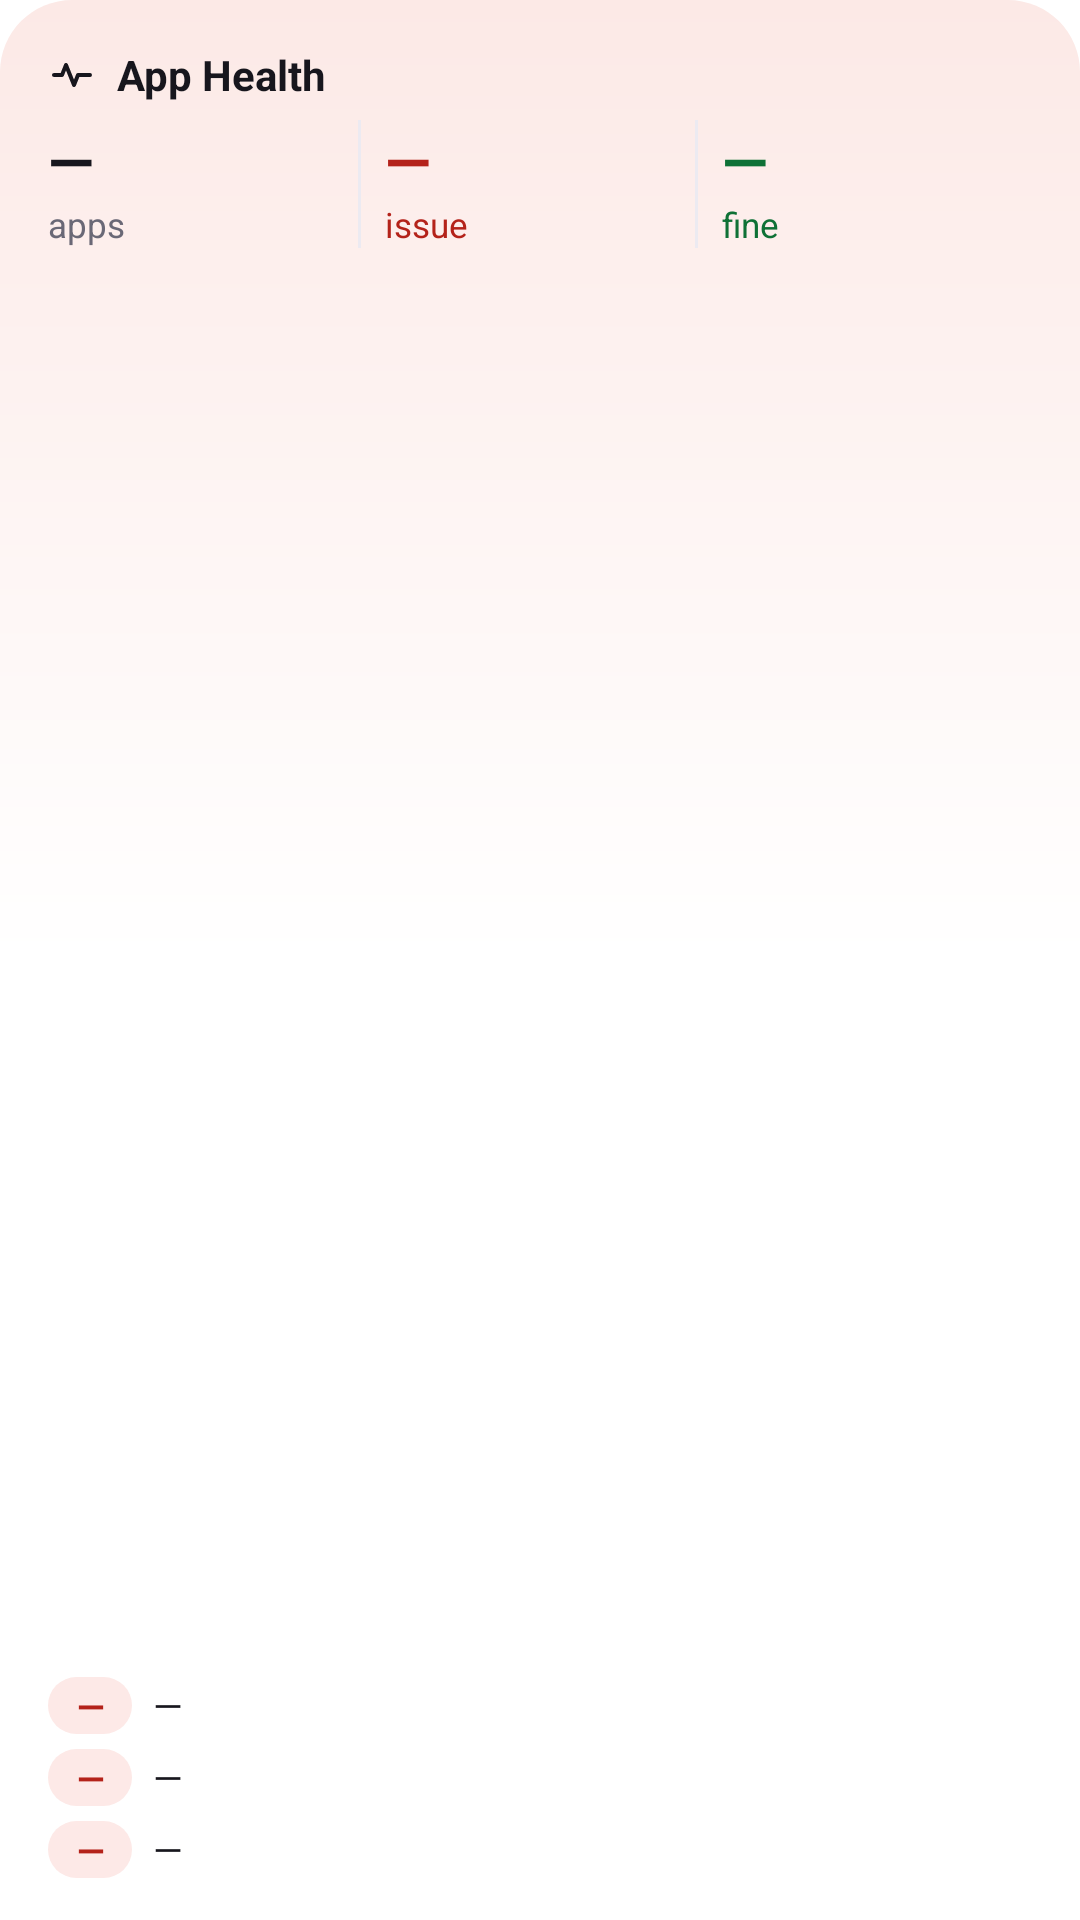

Icons on this 1080x1920 Android screen, each with its box as {"left": x1, "top": y1, "right": x2, "bottom": y2}:
widget pulse: {"left": 52, "top": 63, "right": 92, "bottom": 87}
